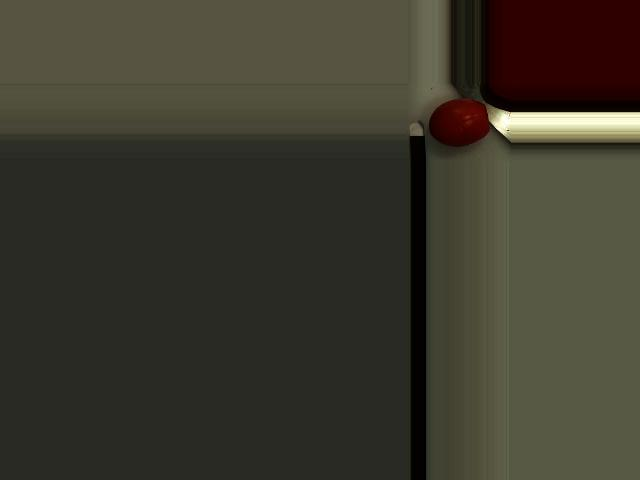tomato: (429, 98, 490, 147)
